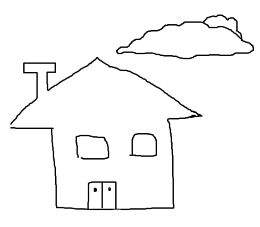chimney: (19, 58, 59, 99)
clouds: (116, 13, 254, 59)
door: (84, 177, 120, 216)
open_window: (74, 134, 109, 160), (131, 132, 157, 157)
single_line_roof: (8, 57, 203, 128)
wall: (45, 121, 178, 213)
